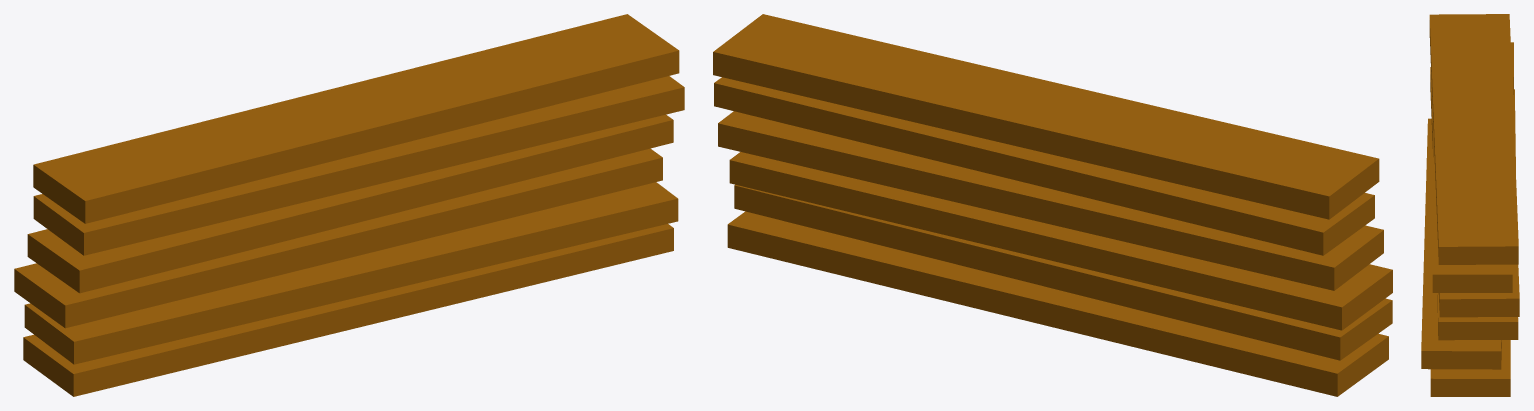
File: wood_plank_stack.glb
The picture shows the model from 3 angles, left to right: view 1: azimuth 30°, elevation 25°; view 2: azimuth 150°, elevation 25°; view 3: azimuth 270°, elevation 25°; orthographic projection. The views are drawn at different scales.
Size of the model in its own units: 2.65 by 0.7929 by 0.4595.
